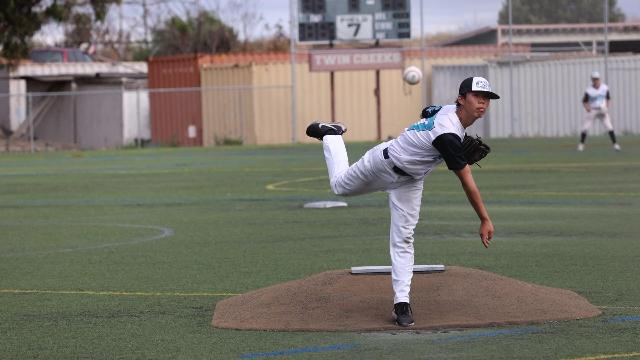ball: (402, 66, 422, 86)
